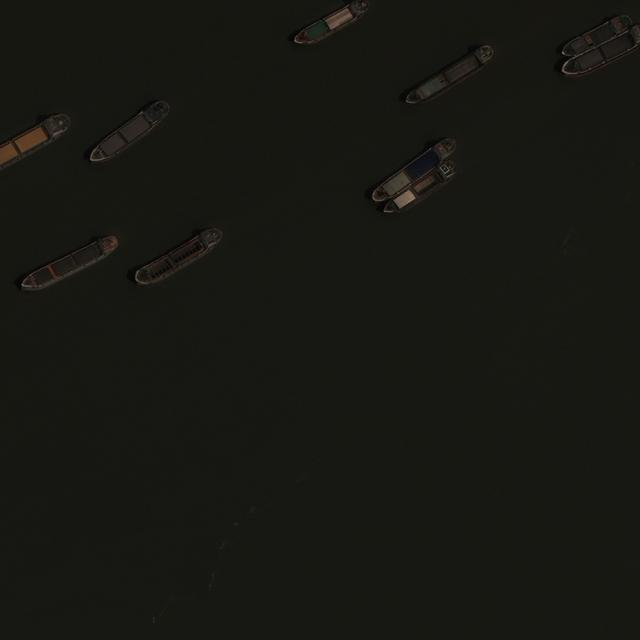Cargo: (18, 231, 124, 297), (402, 42, 498, 114), (367, 136, 460, 209), (84, 97, 175, 170), (132, 223, 227, 292), (380, 158, 461, 222), (562, 25, 640, 76), (1, 114, 71, 170), (558, 12, 635, 61), (296, 2, 364, 45)
